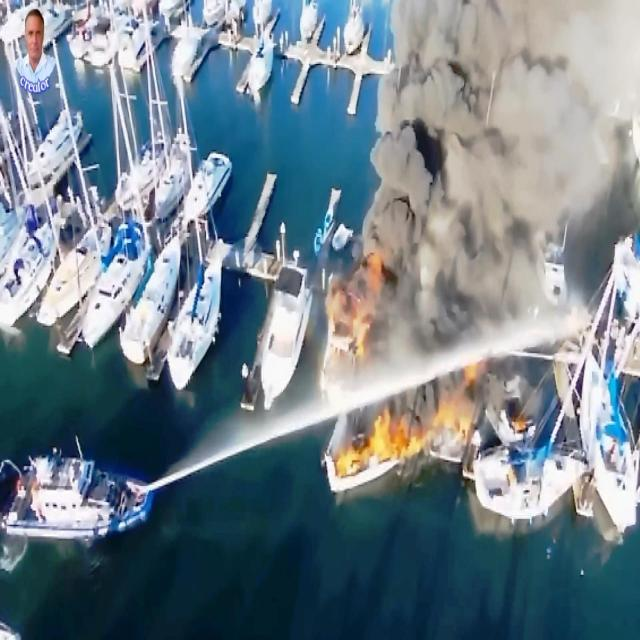Fire: (362, 404, 420, 469)
Smoke: (410, 0, 564, 186)
